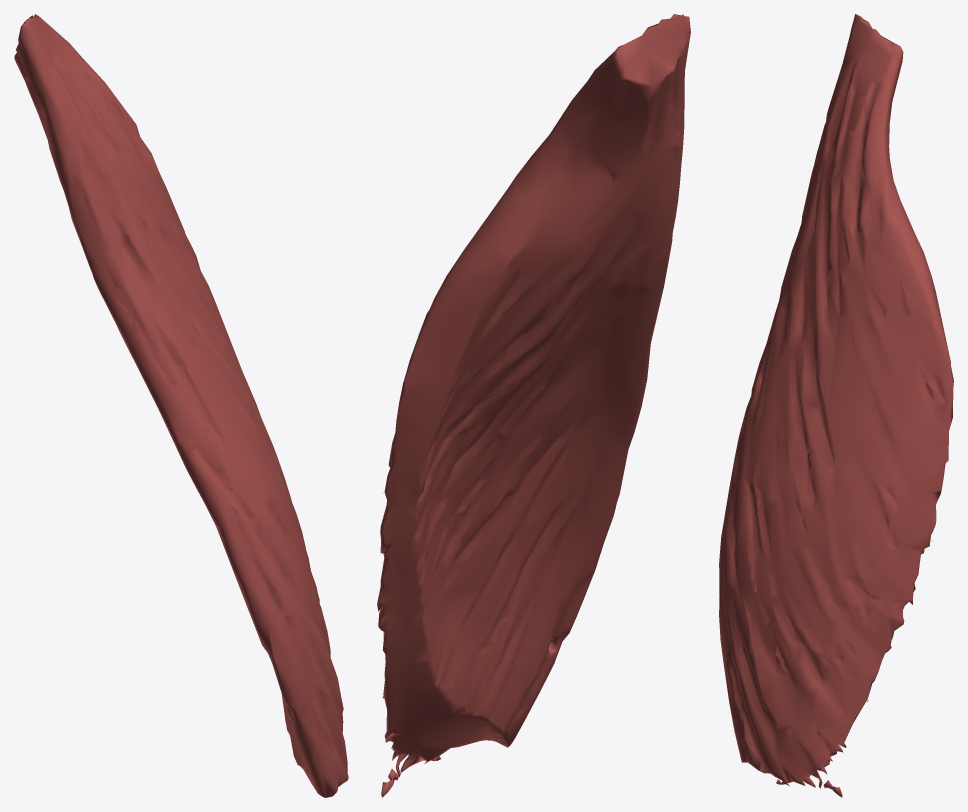
Rendered from FMA37400.glb.
3 views of the same model, side by side, from view 1: azimuth 30°, elevation 25°; view 2: azimuth 150°, elevation 25°; view 3: azimuth 270°, elevation 25° (orthographic). The views are drawn at different scales.
Parts seen in each view (by area): view 1: FMA37400; view 2: FMA37400; view 3: FMA37400.
Part boxes in pixels (box(x1,y1,x2,y2)): FMA37400: box(14, 14, 348, 797); FMA37400: box(377, 14, 690, 797); FMA37400: box(719, 14, 953, 797).
Size of the model in its own units: 0.018 by 0.0468 by 0.0149.
